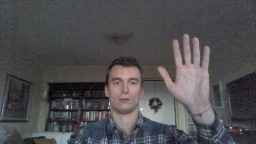Mano_aperta: (155, 33, 211, 109)
